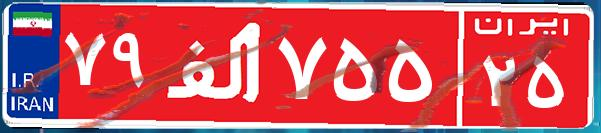2: (475, 38, 525, 113)
5: (385, 28, 445, 110), (330, 28, 385, 110), (525, 38, 570, 115)
7: (273, 28, 330, 110), (57, 26, 110, 107)
9: (110, 28, 158, 105)
الف: (158, 15, 273, 115)
